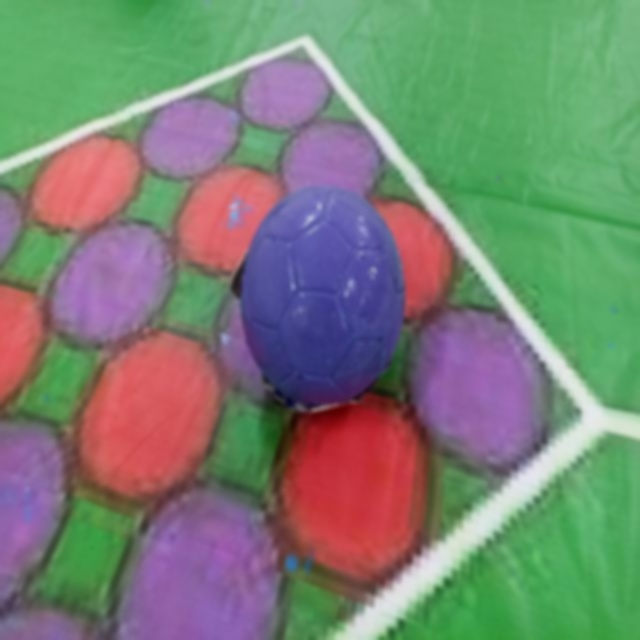purple_ball: (217, 180, 420, 424)
